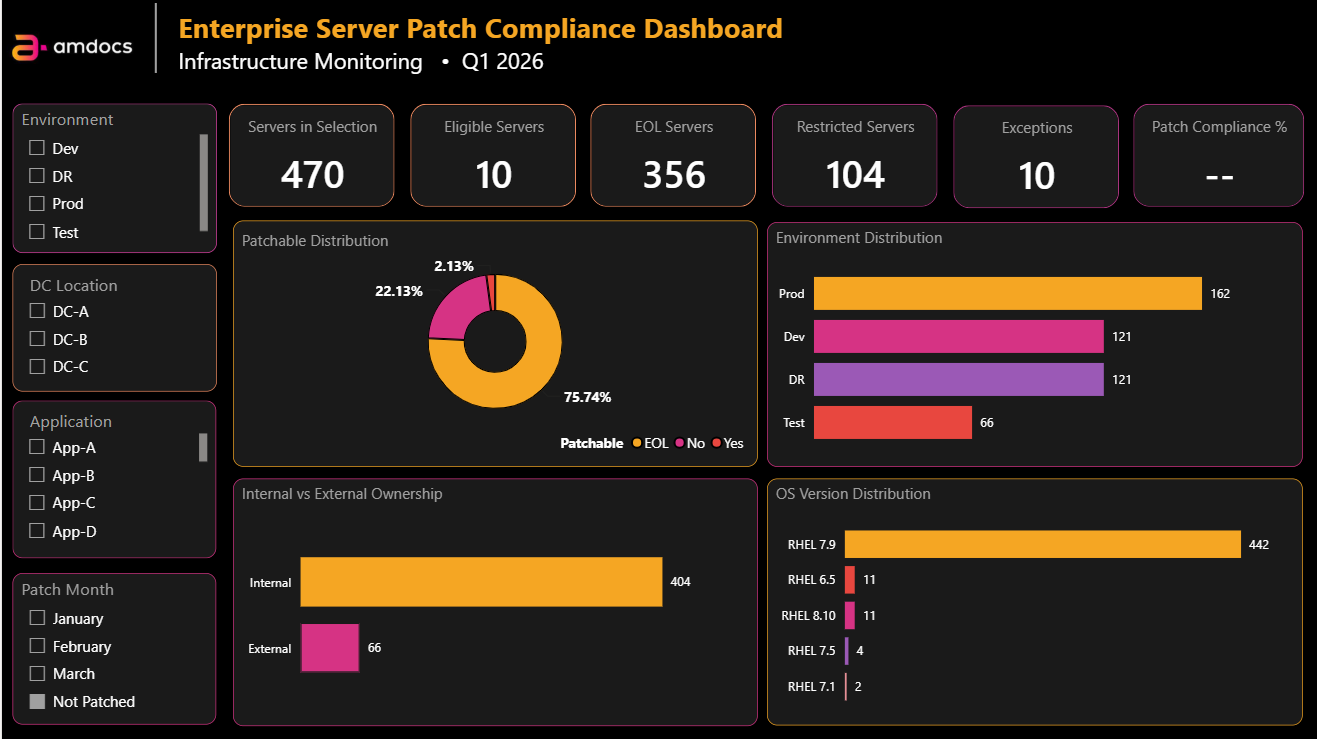

This screenshot's page, from the dashboard's own definition file:
{"tool":"powerbi","page":{"name":"Page 1","canvas":[1280,720],"ordinal":0},"visuals":[{"type":"image","box":[0,0,140.8,89.3],"z":0},{"type":"cardVisual","title":"Servers","fields":{"Data":["Patch Linux.Total Servers"]},"box":[208.5,88.9,185,124],"z":1000},{"type":"donutChart","title":"Patchable Distribution","fields":{"Category":["Patch Linux.Patchable"],"Y":["Count(Patch Linux.Host Name)"]},"box":[224.1,215,510.3,239.2],"z":2000},{"type":"cardVisual","fields":{"Data":["Patch Linux.Eligible Servers"]},"box":[384.4,88.9,185,124],"z":3000},{"type":"clusteredBarChart","title":"Environment Distribution","fields":{"Category":["Patch Linux.Env"],"Y":["CountNonNull(Patch Linux.Host Name)"]},"box":[743.7,215.5,520.6,238.3],"z":4000},{"type":"cardVisual","fields":{"Data":["Patch Linux.Restricted Servers"]},"box":[736.3,89.5,185,124.5],"z":5000},{"type":"clusteredBarChart","title":"Internal vs External Ownership","fields":{"Category":["Patch Linux.App_managed_internal or external"],"Y":["CountNonNull(Patch Linux.Host Name)"]},"box":[224.1,464.9,510.3,240.8],"z":6000},{"type":"cardVisual","fields":{"Data":["Patch Linux.EOL Servers"]},"box":[560.4,89.5,185,124.5],"z":7000},{"type":"clusteredBarChart","title":"OS Version Distribution","fields":{"Y":["CountNonNull(Patch Linux.Host Name)"],"Category":["Patch Linux.Current Version"]},"box":[743.7,464.4,520.6,239.8],"z":8000},{"type":"cardVisual","fields":{"Data":["Patch Linux.Exceptions"]},"box":[912.3,91.1,185,124.5],"z":9000},{"type":"slicer","title":"Environment","fields":{"Values":["Patch Linux.Env"]},"box":[10.6,99.9,198.4,145.4],"z":10000},{"type":"slicer","fields":{"Values":["Patch Linux.DC Location"]},"box":[10.6,255.9,198.4,124.2],"z":11000},{"type":"slicer","fields":{"Values":["Patch Linux.Application"]},"box":[10.2,389.2,198.3,153.1],"z":12000},{"type":"textbox","box":[166.6,3,660.2,86.3],"z":13000},{"type":"shape","box":[0,3,299,68.1],"z":14000},{"type":"slicer","title":"Patch Month","fields":{"Values":["Patch Linux.Patch Month"]},"box":[10.2,556.9,198.3,147.2],"z":15000},{"type":"cardVisual","fields":{"Data":["Patch Linux.Patch Compliance %"]},"box":[1088.3,89.5,190,124.5],"z":16000}]}

Visuals, with their boxes in screenshot pixels (x1, y1, x2, y2), scaled from the page's 1280x720 canvas onto the 1317x739 screenshot:
image: l=0, t=0, r=145, b=92
"Servers" cardVisual: l=215, t=91, r=405, b=219
"Patchable Distribution" donutChart: l=231, t=221, r=756, b=466
cardVisual - Patch Linux.Eligible Servers: l=396, t=91, r=586, b=219
"Environment Distribution" clusteredBarChart: l=765, t=221, r=1301, b=466
cardVisual - Patch Linux.Restricted Servers: l=758, t=92, r=948, b=220
"Internal vs External Ownership" clusteredBarChart: l=231, t=477, r=756, b=724
cardVisual - Patch Linux.EOL Servers: l=577, t=92, r=767, b=220
"OS Version Distribution" clusteredBarChart: l=765, t=477, r=1301, b=723
cardVisual - Patch Linux.Exceptions: l=939, t=94, r=1129, b=221
"Environment" slicer: l=11, t=103, r=215, b=252
slicer - Patch Linux.DC Location: l=11, t=263, r=215, b=390
slicer - Patch Linux.Application: l=10, t=399, r=215, b=557
textbox: l=171, t=3, r=851, b=92
shape: l=0, t=3, r=308, b=73
"Patch Month" slicer: l=10, t=572, r=215, b=723
cardVisual - Patch Linux.Patch Compliance %: l=1120, t=92, r=1315, b=220
